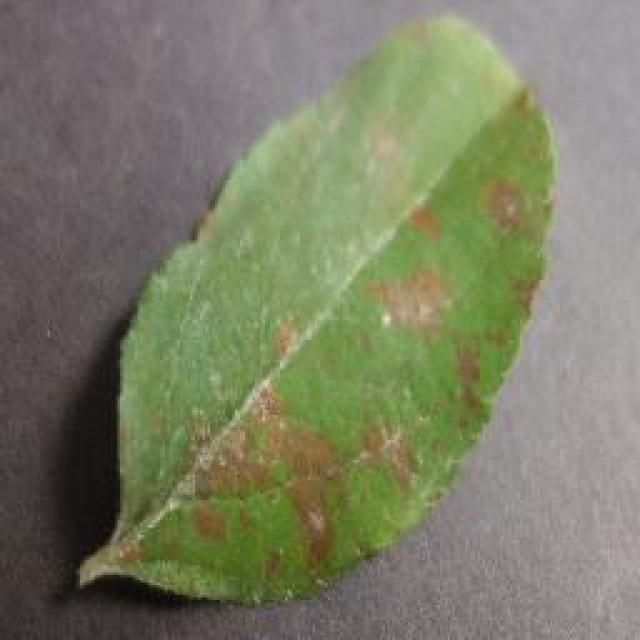apple scab disease: (72, 10, 558, 605)
